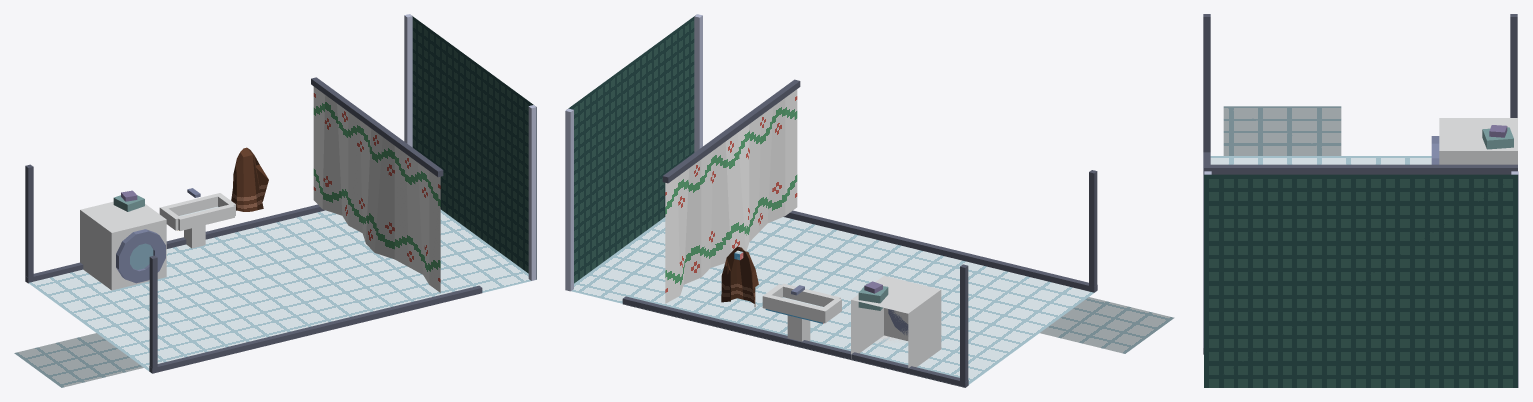
The model's file is new_bathroom.gltf.
The picture shows the model from 3 angles, left to right: view 1: azimuth 30°, elevation 25°; view 2: azimuth 150°, elevation 25°; view 3: azimuth 270°, elevation 25°; orthographic projection. The views are drawn at different scales.
Parts seen in each view (by area): view 1: cuboid-col (×5), plane-col (×2), cuboid (×7), enterance-col, tube-col, circle-col; view 2: cuboid-col (×6), plane-col (×2), cuboid (×7), enterance-col; view 3: cuboid-col (×3), cuboid (×5), enterance-col.
Part boxes in pixels (bbox=[...]): cuboid-col (×5): bbox=[28, 16, 536, 373]; plane-col (×2): bbox=[231, 86, 440, 292]; cuboid (×7): bbox=[25, 14, 536, 373]; enterance-col: bbox=[14, 333, 143, 387]; tube-col: bbox=[116, 229, 165, 283]; circle-col: bbox=[130, 243, 153, 269]; cuboid-col (×6): bbox=[568, 15, 1094, 384]; plane-col (×2): bbox=[665, 89, 797, 309]; cuboid (×7): bbox=[565, 14, 1097, 387]; enterance-col: bbox=[1040, 297, 1174, 353]; cuboid-col (×3): bbox=[1204, 118, 1517, 387]; cuboid (×5): bbox=[1203, 14, 1517, 354]; enterance-col: bbox=[1223, 106, 1341, 155].
Size of what is drawn, in the model's own units: 1.06 by 0.3762 by 0.5025.
1 material, 1 textured.
